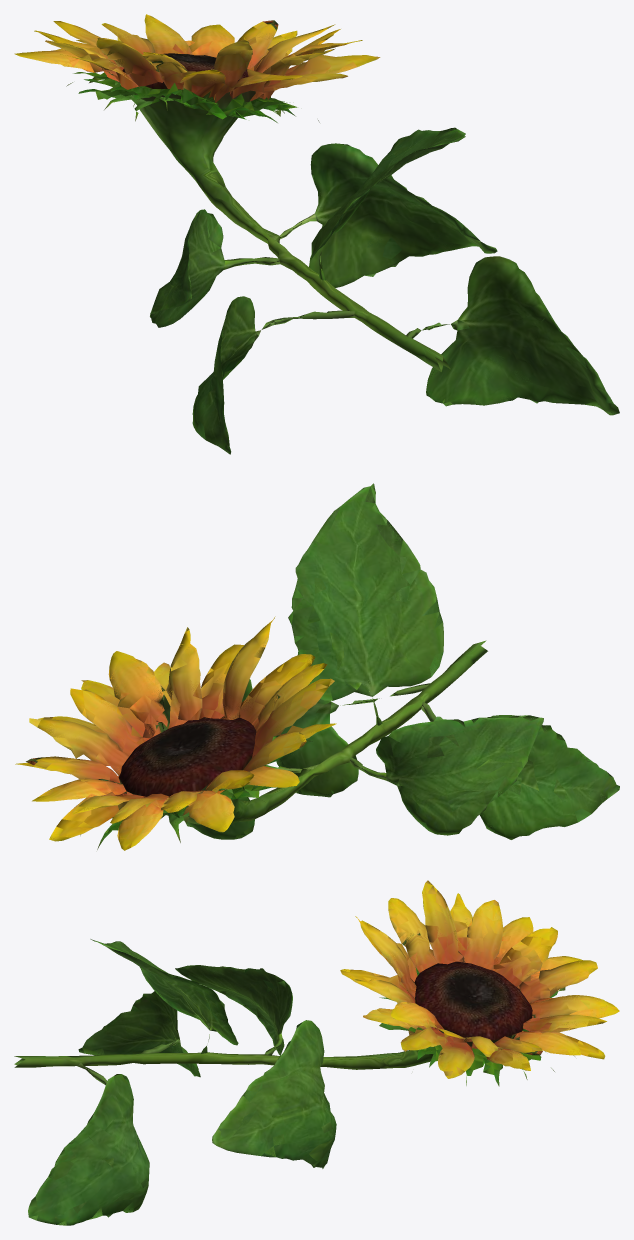
3 renders of one model, top to bottom at view 1: azimuth 30°, elevation 25°; view 2: azimuth 150°, elevation 25°; view 3: azimuth 270°, elevation 25°, orthographic. The views are drawn at different scales.
Parts seen in each view (by area): view 1: 966d0bee; view 2: 966d0bee; view 3: 966d0bee.
Part boxes in pixels (bbox=[...]): 966d0bee: bbox=[14, 14, 619, 454]; 966d0bee: bbox=[15, 483, 619, 850]; 966d0bee: bbox=[14, 880, 619, 1225].
Size of the model in its own units: 0.1132 by 0.0898 by 0.1963.
1 material, 1 textured.
